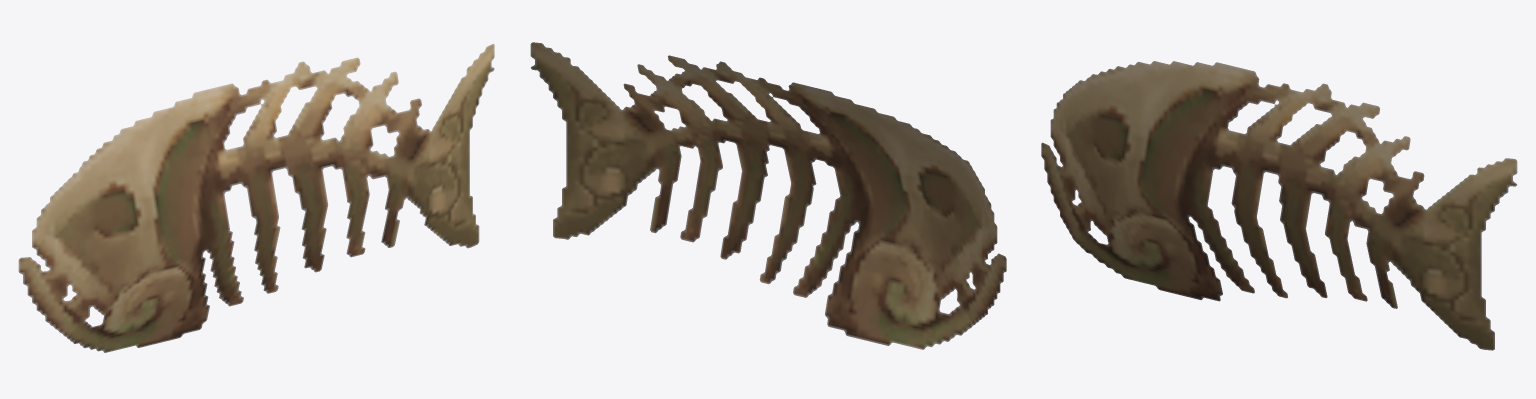
The model's file is fish skeleton.glb.
3 renders of one model, left to right at view 1: azimuth 30°, elevation 25°; view 2: azimuth 150°, elevation 25°; view 3: azimuth 330°, elevation 25°, orthographic.
Visible parts, largest first — view 1: water_temple_poison.fish-MeshNodes["fish"]; view 2: water_temple_poison.fish-MeshNodes["fish"]; view 3: water_temple_poison.fish-MeshNodes["fish"].
Boxes of the visible parts, x1,y1,x2,y2 form: water_temple_poison.fish-MeshNodes["fish"]: (18,44,494,352); water_temple_poison.fish-MeshNodes["fish"]: (530,42,1006,349); water_temple_poison.fish-MeshNodes["fish"]: (1041,61,1517,350).
Size of the model in its own units: 1 by 0.5 by 0.083.
Materials: 1 (1 with a texture image).
